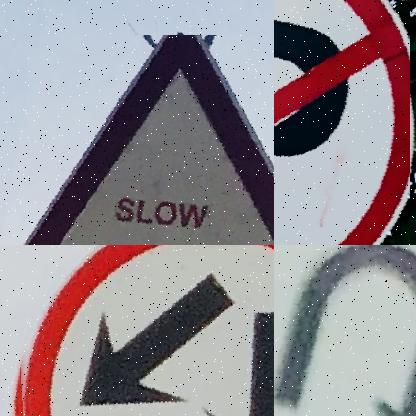No Parking: (274, 0, 410, 245)
Road Divides: (20, 245, 274, 416)
Slow: (25, 35, 274, 245)
U-Turn: (274, 245, 416, 416)
